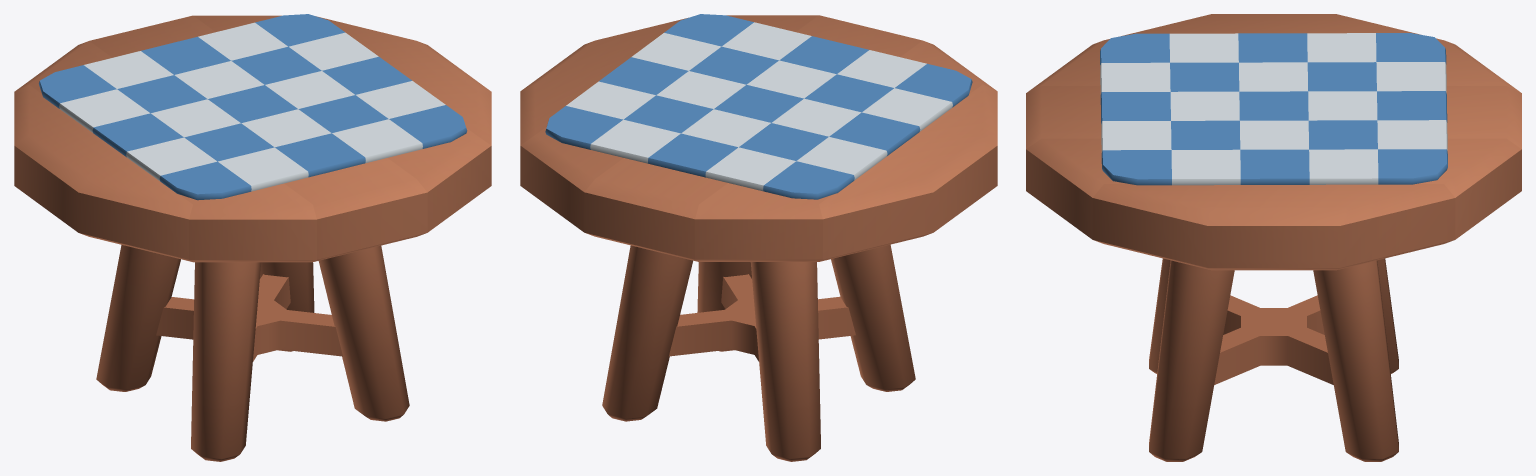
Rendered from table-round-c.glb.
3 views of the same model, side by side, from view 1: azimuth 30°, elevation 25°; view 2: azimuth 150°, elevation 25°; view 3: azimuth 270°, elevation 25° (orthographic). The views are drawn at different scales.
Visible parts, largest first — view 1: table_round_C; view 2: table_round_C; view 3: table_round_C.
Boxes of the visible parts, bbox=[...] form: table_round_C: bbox=[14, 14, 491, 461]; table_round_C: bbox=[520, 14, 997, 461]; table_round_C: bbox=[1026, 14, 1521, 461].
Size of the model in its own units: 1.5 by 1.02 by 1.5.
Materials: 1 (1 with a texture image).
